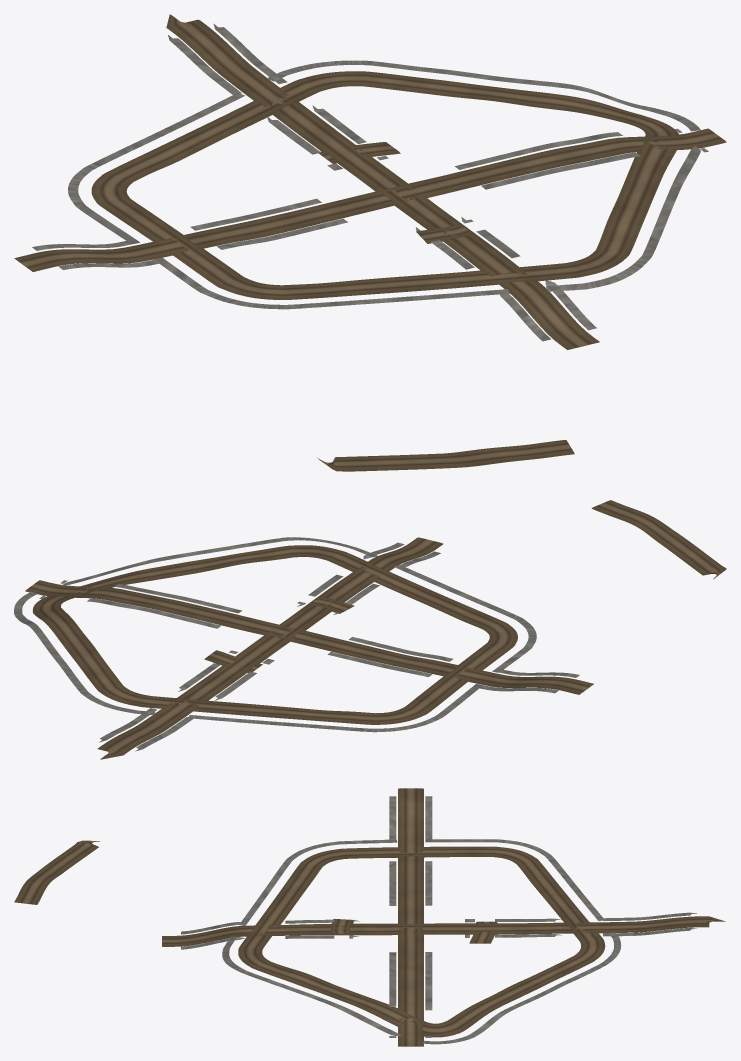
The model's file is Roads_P1.fbx.
3 renders of one model, top to bottom at view 1: azimuth 30°, elevation 25°; view 2: azimuth 150°, elevation 25°; view 3: azimuth 270°, elevation 25°, orthographic. The views are drawn at different scales.
Parts seen in each view (by area): view 1: Road.Ring, Road.Y, Road.X, Walk.Ring0, Road.Ring.shoulder, Road.Port, Road.X.shoulder, Road.Y.shoulder, Walk.XEI, Walk.XEI.001, Walk.XWI; view 2: Road.Ring, Road.X, Road.Y, Walk.Ring0, Road.Ring.shoulder, Road.Port, Road.X.shoulder, Road.Y.shoulder, Walk.XEI, Walk.XEI.001, Walk.XWI, Walk.XWI.001; view 3: Road.Ring, Road.X, Road.Y, Walk.Ring0, Road.Ring.shoulder, Road.Port, Road.Y.shoulder, Road.X.shoulder, Walk.XEI, Walk.XEI.001.
Part boxes in pixels (box(x1,y1,x2,y2)): Road.Ring: box(93, 71, 678, 298); Road.Y: box(168, 15, 598, 349); Road.X: box(15, 128, 725, 270); Walk.Ring0: box(68, 60, 700, 309); Road.Ring.shoulder: box(91, 71, 678, 299); Road.Port: box(318, 440, 574, 470); Road.X.shoulder: box(14, 128, 726, 271); Road.Y.shoulder: box(166, 14, 599, 349); Walk.XEI: box(455, 132, 622, 169); Walk.XEI.001: box(481, 152, 640, 189); Walk.XWI: box(190, 198, 321, 230); Road.Ring: box(34, 545, 516, 723); Road.X: box(26, 580, 593, 693); Road.Y: box(98, 537, 442, 758); Walk.Ring0: box(14, 537, 536, 732); Road.Ring.shoulder: box(32, 545, 517, 724); Road.Port: box(592, 500, 725, 578); Road.X.shoulder: box(25, 580, 593, 694); Road.Y.shoulder: box(97, 537, 443, 759); Walk.XEI: box(87, 598, 220, 628); Walk.XEI.001: box(115, 584, 241, 613); Walk.XWI: box(327, 652, 432, 676); Walk.XWI.001: box(348, 637, 453, 661); Road.Ring: box(239, 846, 603, 1036); Road.X: box(399, 788, 422, 1046); Road.Y: box(162, 916, 724, 945); Walk.Ring0: box(222, 839, 621, 1044); Road.Ring.shoulder: box(238, 846, 605, 1037); Road.Port: box(15, 840, 99, 904); Road.Y.shoulder: box(162, 916, 725, 946); Road.X.shoulder: box(398, 788, 423, 1046); Walk.XEI: box(425, 952, 432, 1010); Walk.XEI.001: box(389, 952, 396, 1006).
Size of the model in its own units: 20200 by 1271 by 26347.
